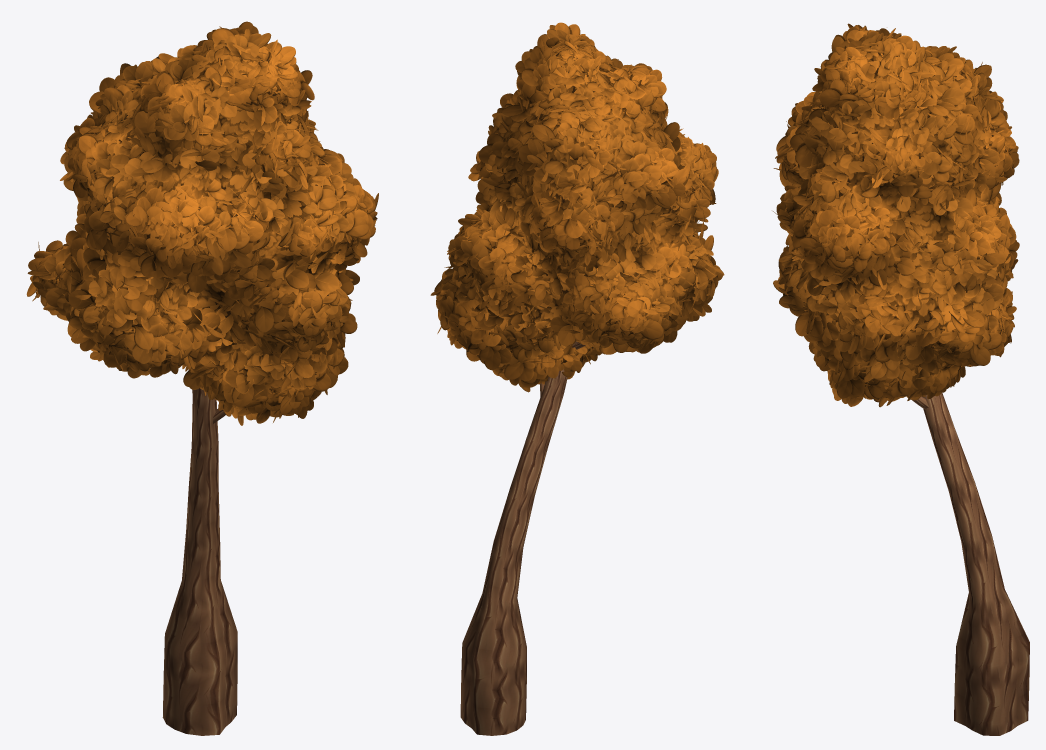
The model's file is aspen_autumn.gltf.
3 views of the same model, side by side, from view 1: azimuth 30°, elevation 25°; view 2: azimuth 150°, elevation 25°; view 3: azimuth 270°, elevation 25° (orthographic). The views are drawn at different scales.
Parts seen in each view (by area): view 1: aspen_autumn_leaves_LOD0, aspen_autumn_trunk_LOD0, aspen_autumn_volume_LOD0; view 2: aspen_autumn_leaves_LOD0, aspen_autumn_trunk_LOD0, aspen_autumn_volume_LOD0; view 3: aspen_autumn_leaves_LOD0, aspen_autumn_trunk_LOD0, aspen_autumn_volume_LOD0.
Boxes of the visible parts, box(x1,y1,x2,y2) form: aspen_autumn_leaves_LOD0: box(26, 21, 378, 425); aspen_autumn_trunk_LOD0: box(162, 388, 237, 735); aspen_autumn_volume_LOD0: box(44, 53, 363, 406); aspen_autumn_leaves_LOD0: box(430, 22, 724, 392); aspen_autumn_trunk_LOD0: box(460, 341, 585, 735); aspen_autumn_volume_LOD0: box(453, 45, 710, 367); aspen_autumn_leaves_LOD0: box(773, 23, 1019, 407); aspen_autumn_trunk_LOD0: box(912, 392, 1029, 735); aspen_autumn_volume_LOD0: box(788, 47, 1004, 386).
Size of what is drawn, in the model's own units: 5.53 by 12.97 by 4.6.
3 materials, 3 textured.
